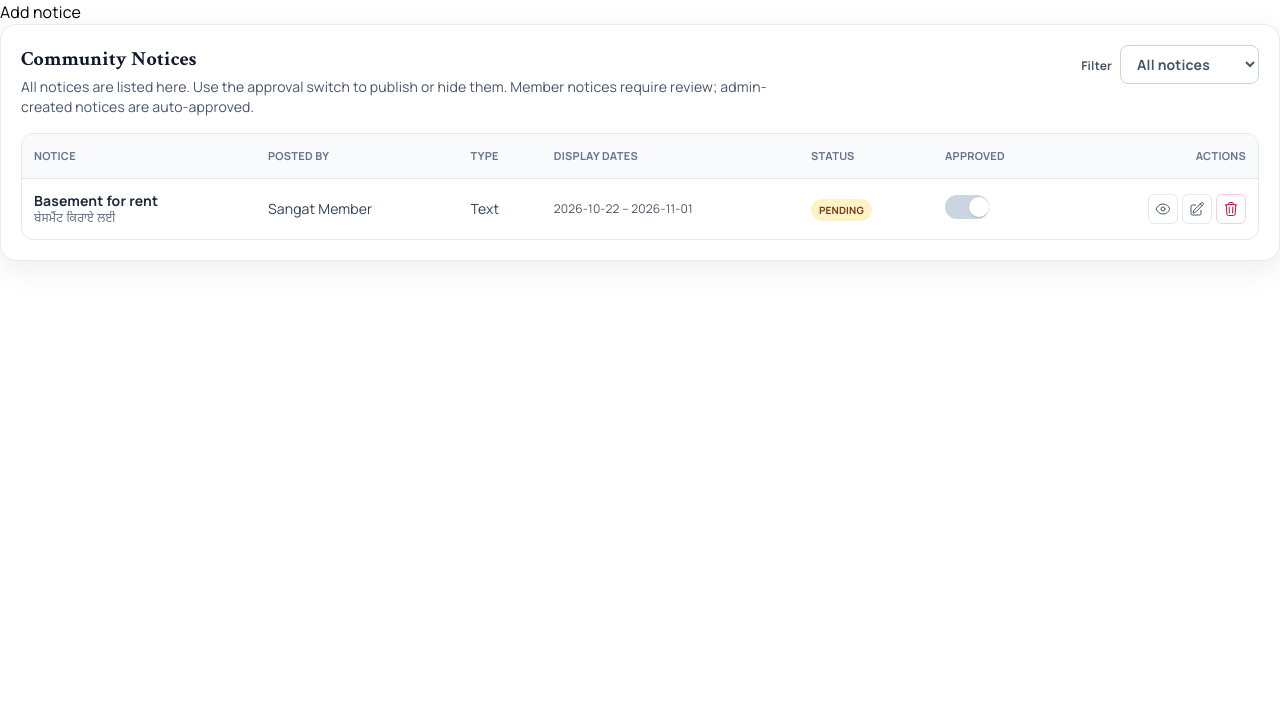
Scenario: edit action opens editor and saves publisher name
The width and height of the screenshot is (1280, 720).
Click the button named "Edit Basement for rent" at point(1197, 209), box [1182,194,1212,224]
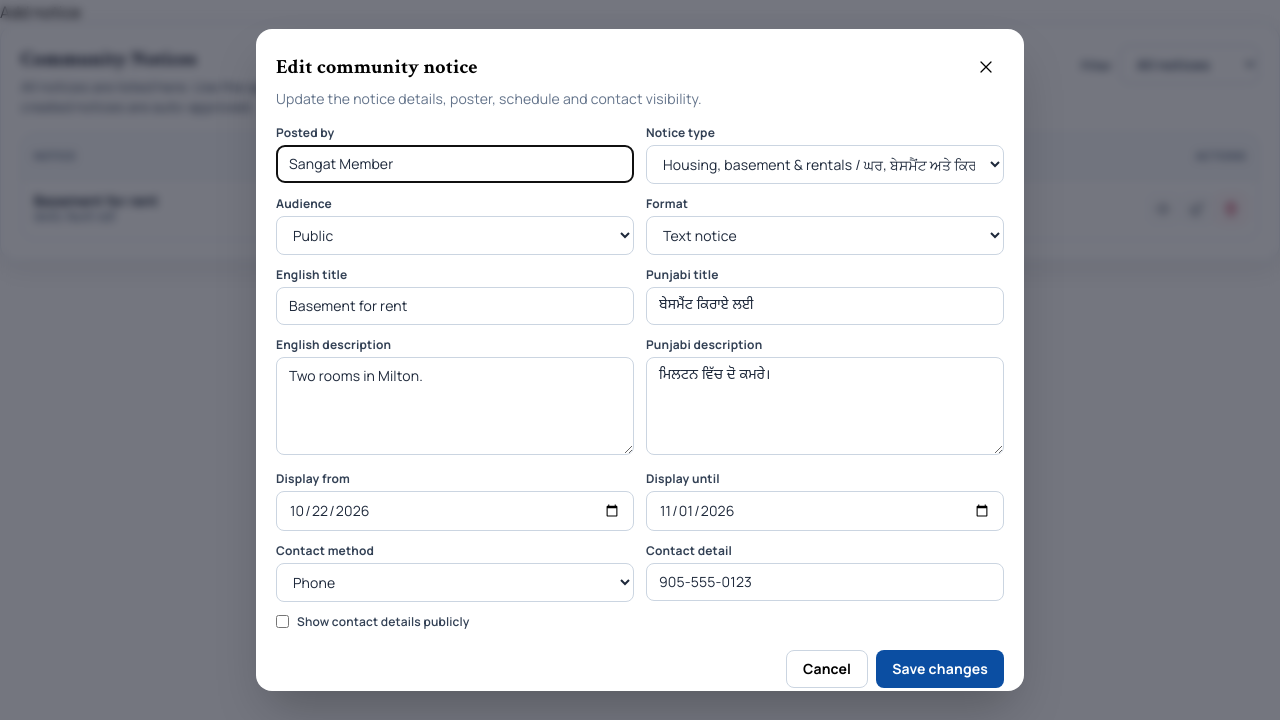
Check: the dialog "Edit community notice" is shown, box [256,29,1024,691]
Replace the text in the field labelled "Posted by" with "Committee" at point(455, 164), box [276,145,634,183]
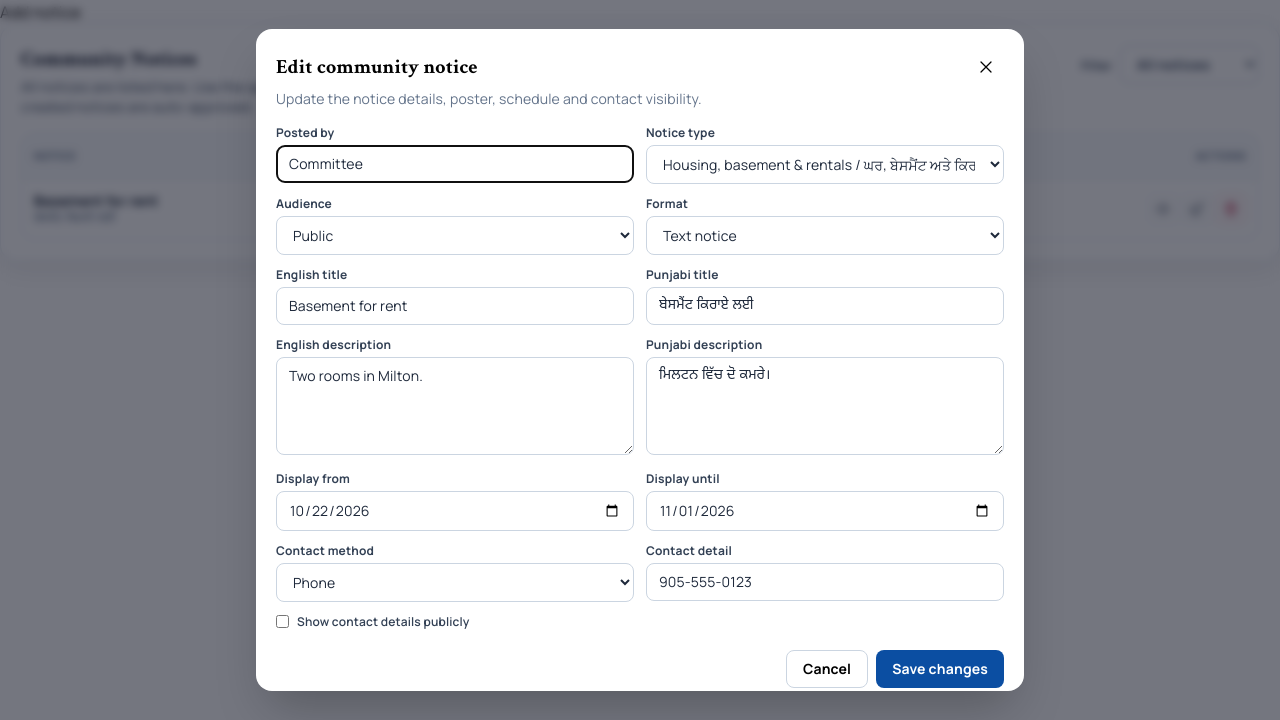
Click the button "Save changes" at point(940, 669), box [876,650,1004,688]
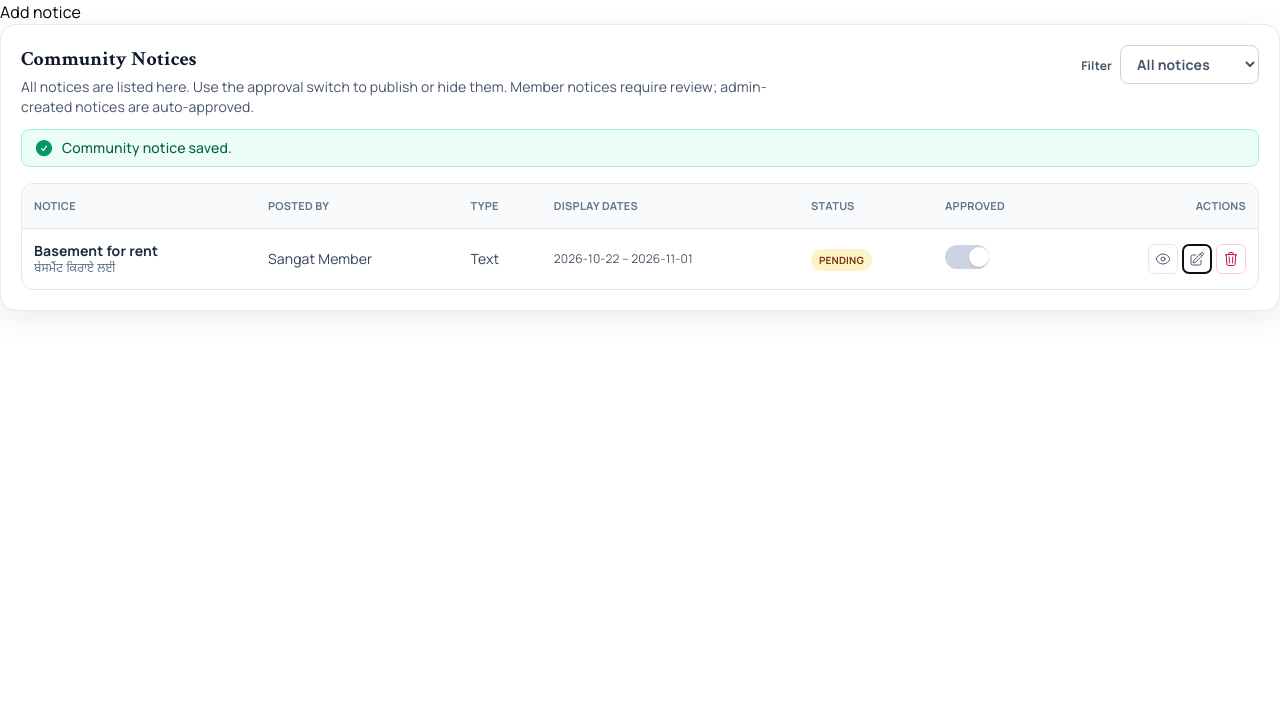
Check: the text "Community notice saved." is shown, box [62,138,232,158]
